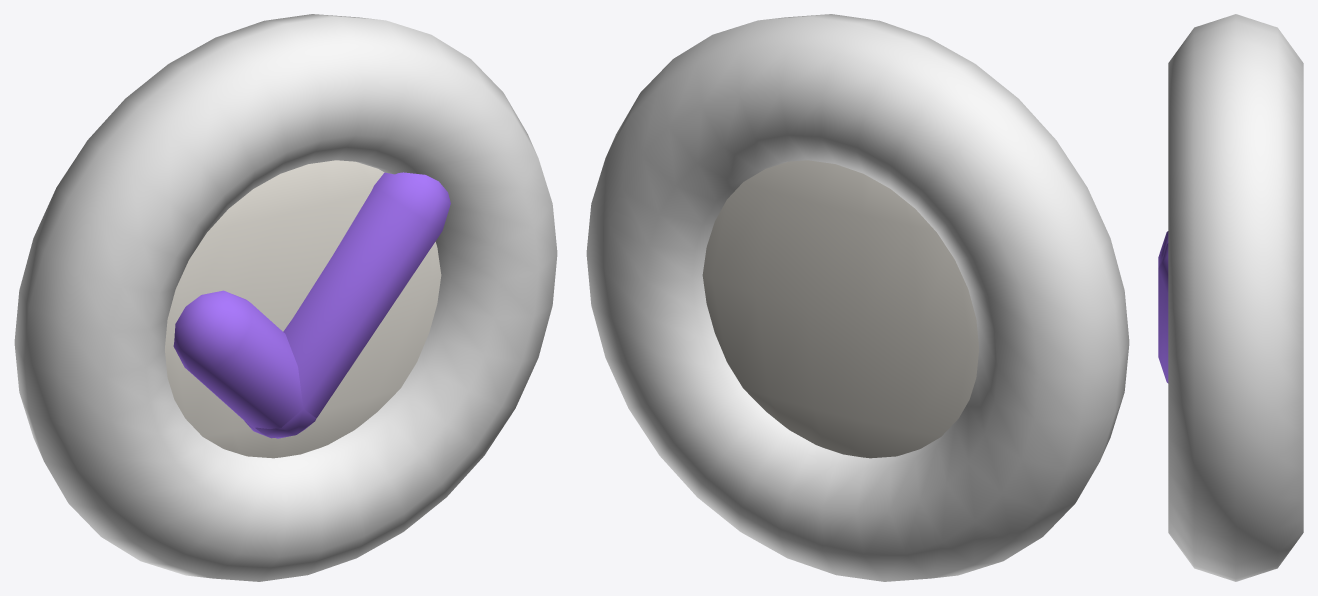
The model's file is git_issue_closed.glb.
The picture shows the model from 3 angles, left to right: view 1: azimuth 30°, elevation 25°; view 2: azimuth 150°, elevation 25°; view 3: azimuth 270°, elevation 25°; orthographic projection. The views are drawn at different scales.
Visible parts, largest first — view 1: git_issue_closed; view 2: git_issue_closed; view 3: git_issue_closed.
Boxes of the visible parts, x1,y1,x2,y2 form: git_issue_closed: (14,14,557,581); git_issue_closed: (586,14,1129,581); git_issue_closed: (1158,14,1303,581).
Size of the model in its own units: 1 by 1 by 0.2552.
